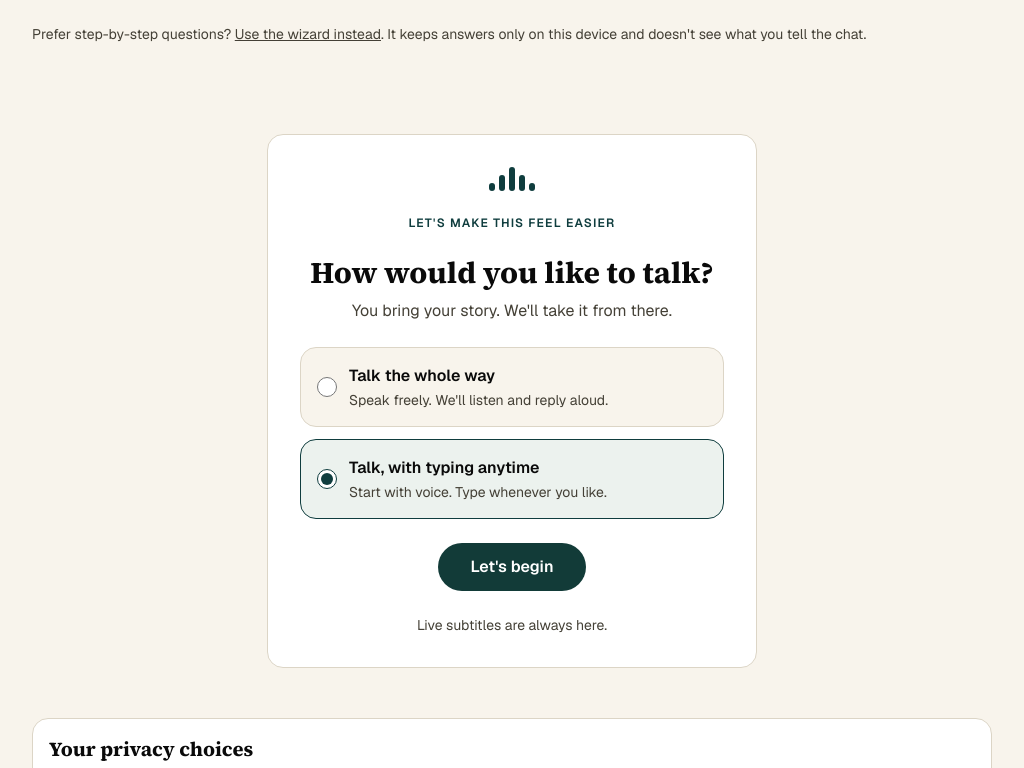
Test: the quick-questions stage between entry and talk (VAL-QQ-002/004/006/010/012) › a reload mid-stage returns to the quick-questions stage with the saved answers intact (VAL-QQ-008)
What coordinates should you click on to do the following:
click the 1st radio button
I would click on:
 (327, 387)
Its box is [317,377,337,397].
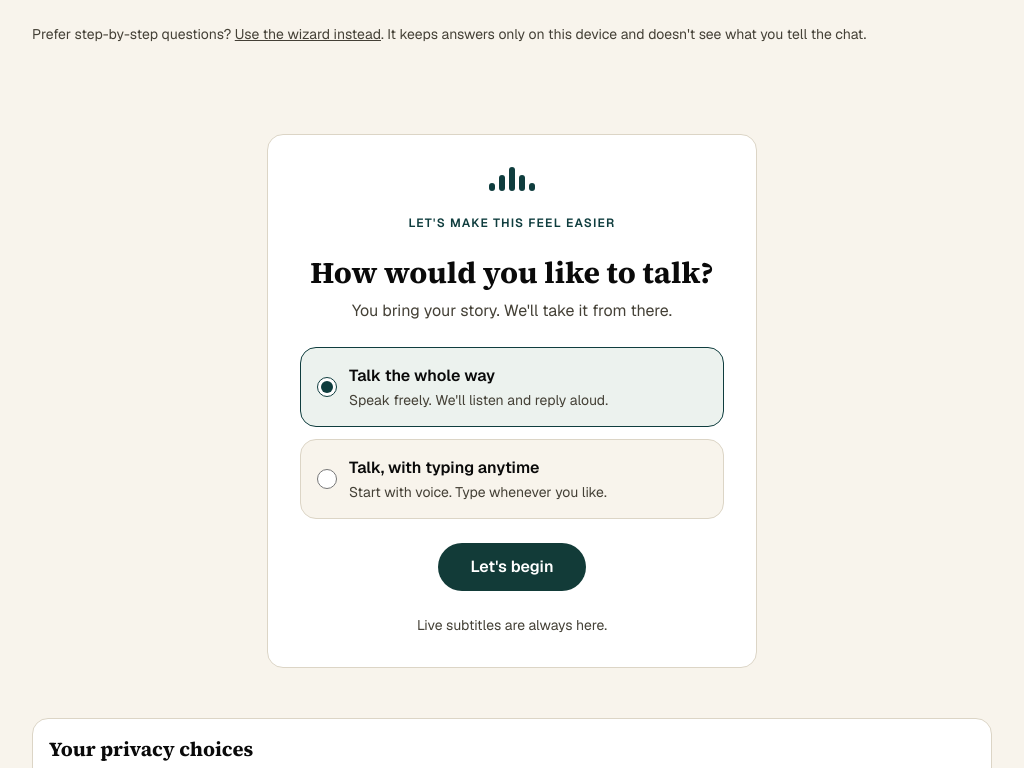
What coordinates should you click on to do the following:
click the button "Let's begin"
I would click on:
 (512, 567)
Its box is [438,543,586,591].
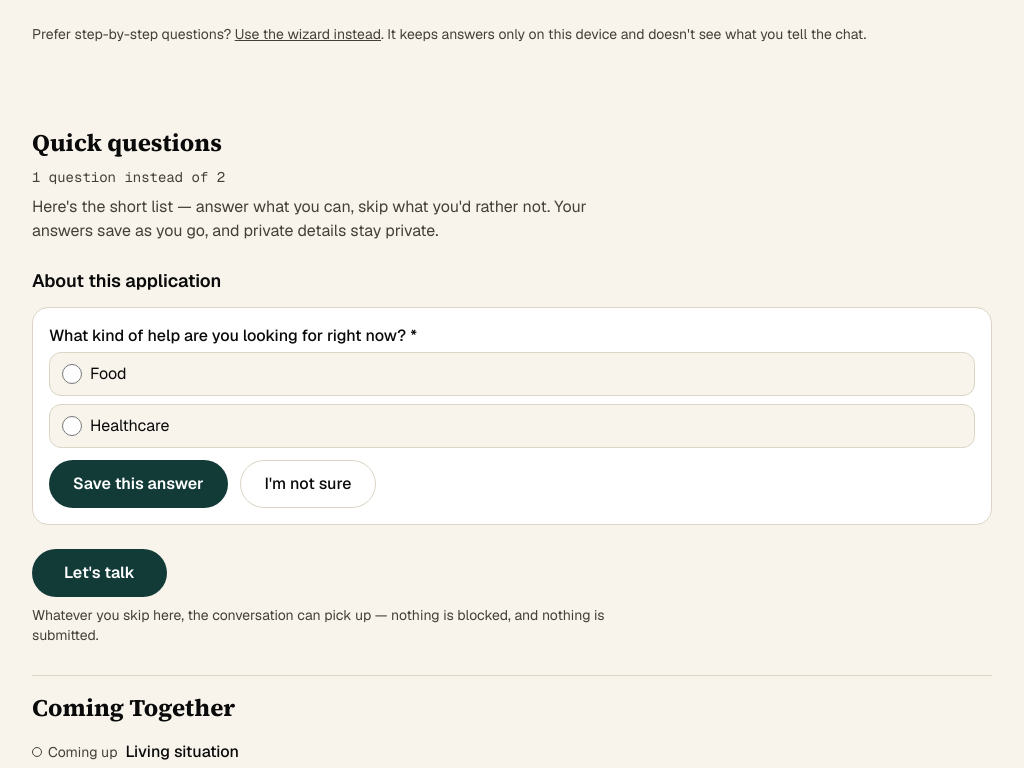
Result: the text "1 question instead of 2" is shown at [32,168,225,186]
